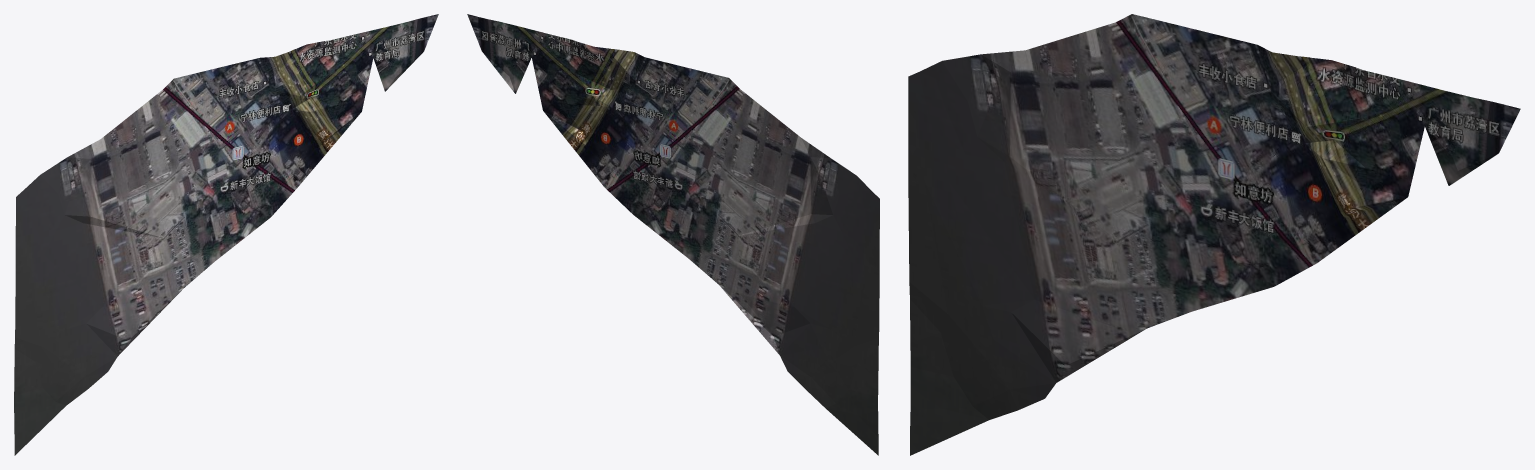
3 views of the same model, side by side, from view 1: azimuth 30°, elevation 25°; view 2: azimuth 150°, elevation 25°; view 3: azimuth 330°, elevation 25° (orthographic). The views are drawn at different scales.
Parts seen in each view (by area): view 1: 0_3_0_0_1; view 2: 0_3_0_0_1; view 3: 0_3_0_0_1.
Boxes of the visible parts, left/top/right/bottom form: 0_3_0_0_1: left=14, top=14, right=438, bottom=455; 0_3_0_0_1: left=467, top=14, right=879, bottom=455; 0_3_0_0_1: left=908, top=14, right=1520, bottom=455.
Size of the model in its own units: 679 by 528 by 23.5.
Materials: 1 (1 with a texture image).
